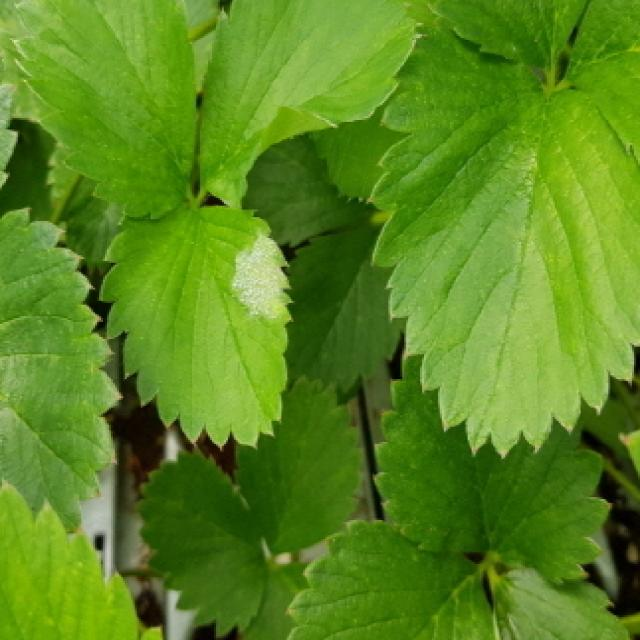Powdery Mildew Leaf: (98, 201, 293, 450)
